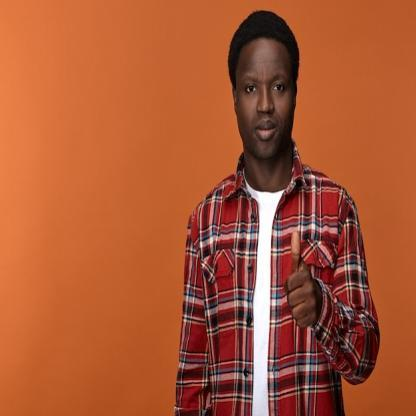thumb_up: (283, 226, 321, 331)
